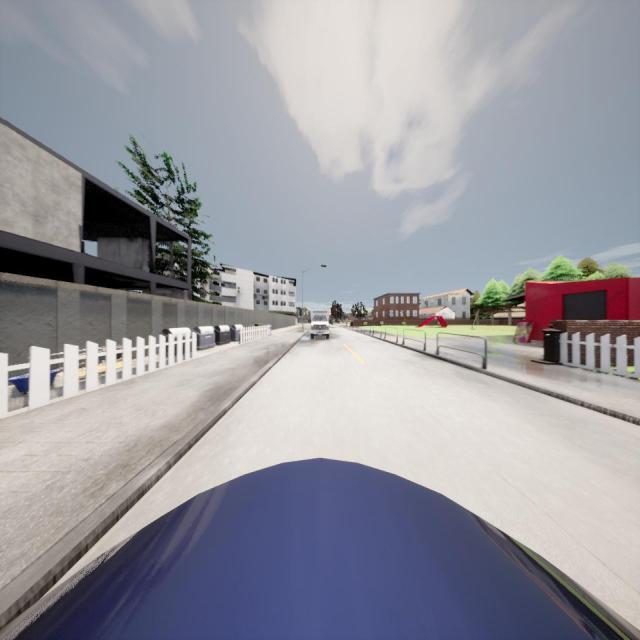Pedestrian: (345, 317, 349, 328)
Vehicle: (0, 457, 640, 640), (308, 309, 332, 340)
